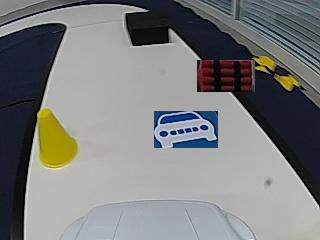block: (125, 11, 170, 46)
cone: (37, 108, 79, 169)
